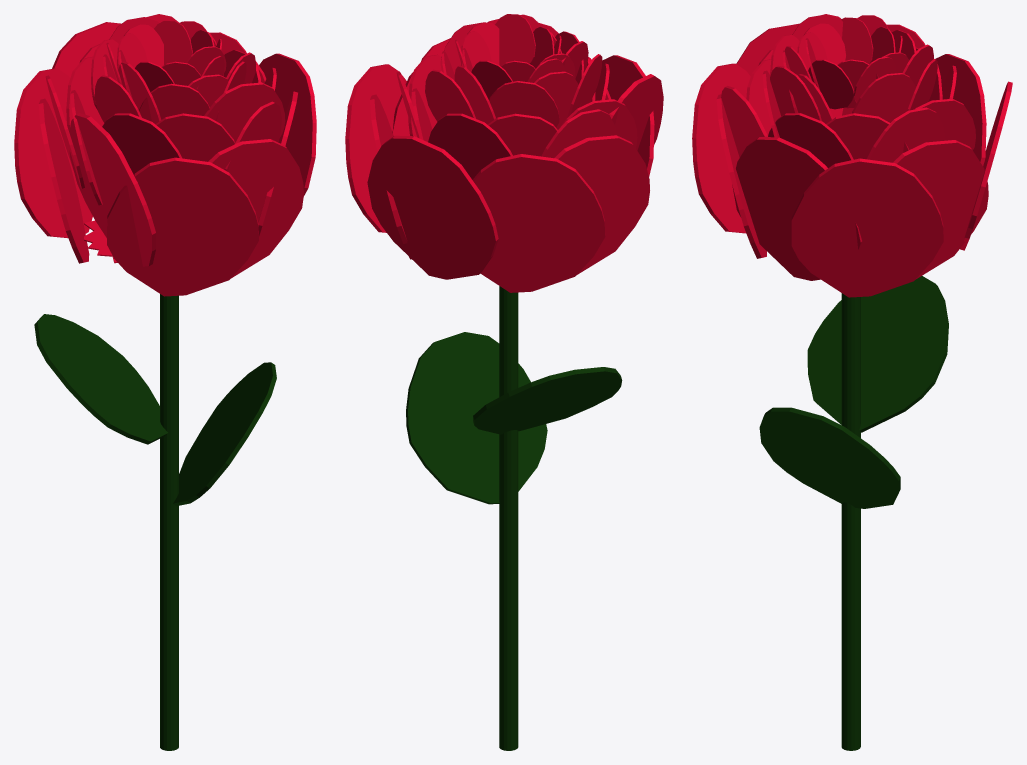
File: Flower.gltf
The picture shows the model from 3 angles, left to right: view 1: azimuth 30°, elevation 25°; view 2: azimuth 150°, elevation 25°; view 3: azimuth 270°, elevation 25°; orthographic projection.
Visible parts, largest first — view 1: Flower; view 2: Flower; view 3: Flower.
Part boxes in pixels (bbox=[...]): Flower: bbox=[14, 14, 316, 750]; Flower: bbox=[345, 14, 663, 750]; Flower: bbox=[692, 14, 1012, 750].
Size of the model in its own units: 0.7815 by 2.04 by 0.8301.
